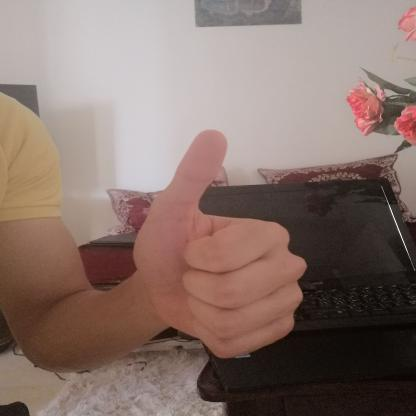ALIF: (94, 113, 324, 367)
